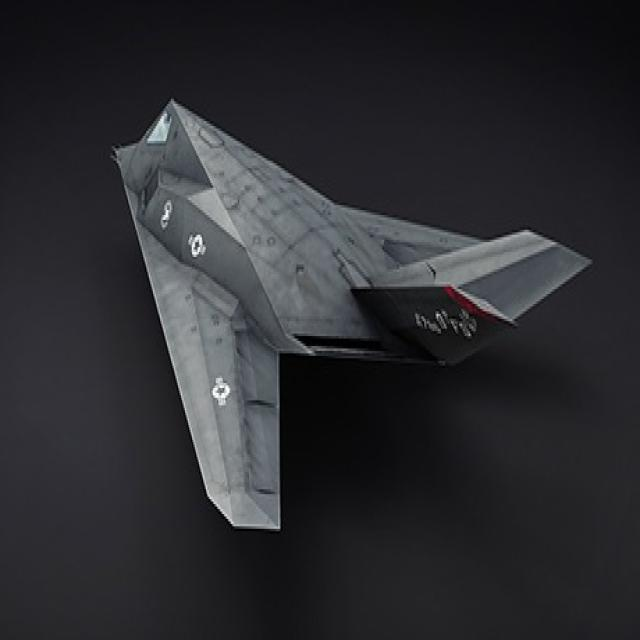F117: (113, 80, 599, 578)
